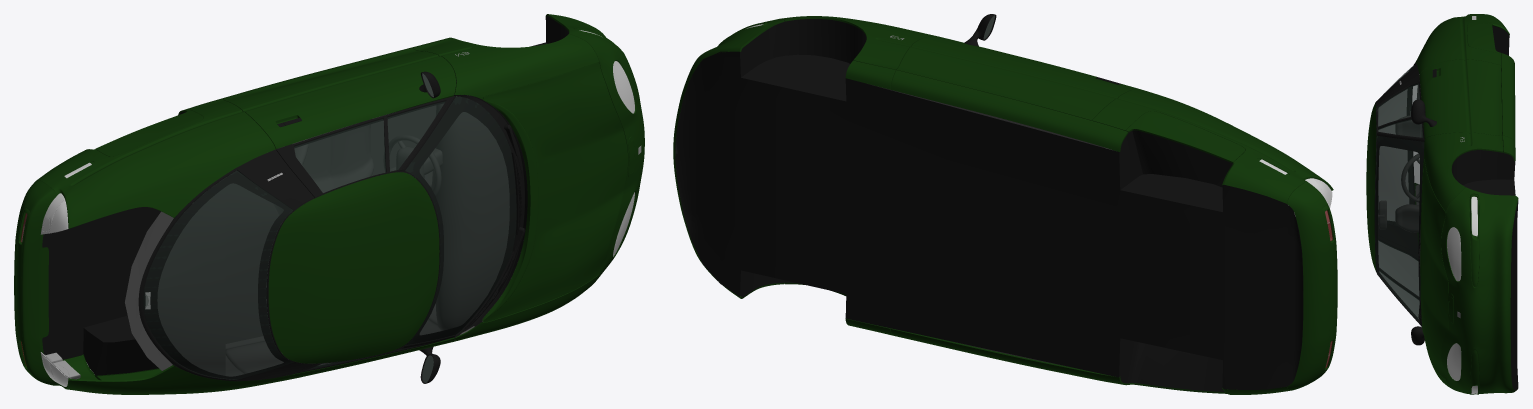
Rendered from ev1_chassis_vis.obj.
3 renders of one model, left to right at view 1: azimuth 30°, elevation 25°; view 2: azimuth 150°, elevation 25°; view 3: azimuth 270°, elevation 25°, orthographic. The views are drawn at different scales.
Parts seen in each view (by area): view 1: ev1_chassis; view 2: ev1_chassis; view 3: ev1_chassis.
Part boxes in pixels (x1,y1,x2,y2): ev1_chassis: [14, 14, 644, 394]; ev1_chassis: [673, 14, 1337, 394]; ev1_chassis: [1366, 14, 1518, 394].
Size of the model in its own units: 4.3 by 2.03 by 1.14.
